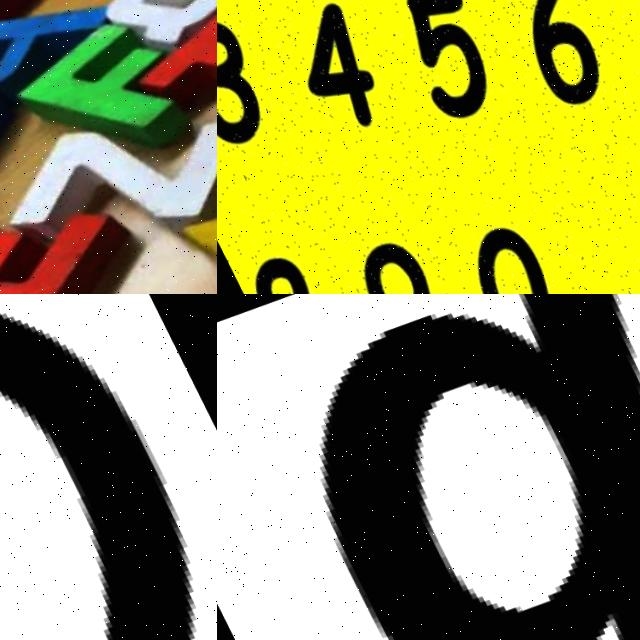0: (402, 163, 595, 294)
3: (217, 0, 292, 170)
4: (237, 0, 416, 165)
5: (342, 0, 532, 150)
6: (456, 0, 640, 133)
7: (577, 0, 640, 113)
8: (217, 195, 369, 294)
9: (289, 169, 480, 294)
E: (0, 130, 176, 294)
F: (0, 0, 205, 194)
G: (217, 294, 640, 640)
I: (84, 0, 217, 210)
O: (0, 313, 191, 640)
Q: (66, 0, 217, 88)
X: (124, 150, 217, 294)
Z: (0, 29, 217, 294)
